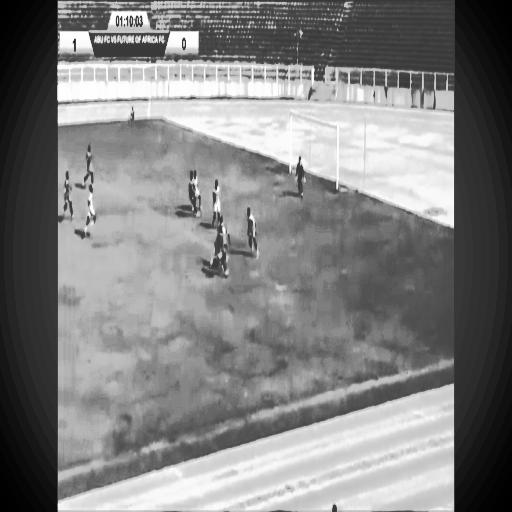keeper1: (295, 151, 305, 202)
team1: (81, 182, 97, 240), (246, 200, 259, 259), (192, 161, 202, 220), (211, 174, 220, 224)
team2: (59, 154, 75, 224), (214, 223, 226, 282), (83, 144, 94, 185), (185, 168, 194, 218)
